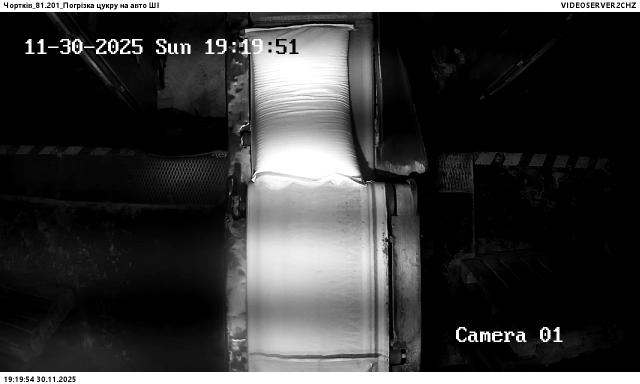bag: (246, 23, 369, 188)
